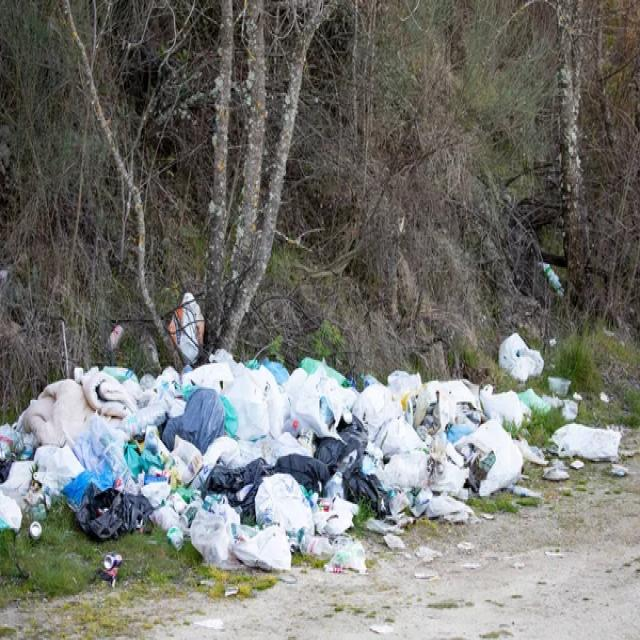garbage: (72, 284, 557, 582)
